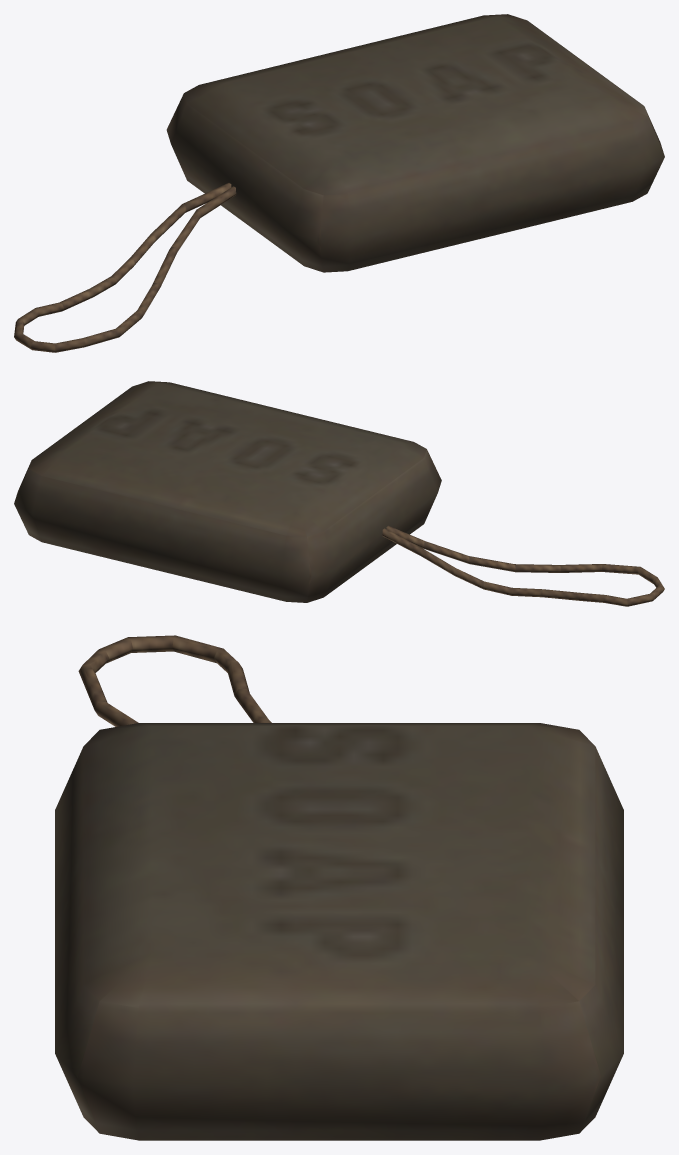
Rendered from soap_mx_2.obj.
3 renders of one model, top to bottom at view 1: azimuth 30°, elevation 25°; view 2: azimuth 150°, elevation 25°; view 3: azimuth 270°, elevation 25°, orthographic. The views are drawn at different scales.
Visible parts, largest first — view 1: soap_mx_2; view 2: soap_mx_2; view 3: soap_mx_2.
Boxes of the visible parts, <box> form: soap_mx_2: <box>14,14,664,352</box>; soap_mx_2: <box>14,381,664,606</box>; soap_mx_2: <box>55,635,623,1140</box>.
Size of the model in its own units: 0.2411 by 0.039 by 0.1092.
